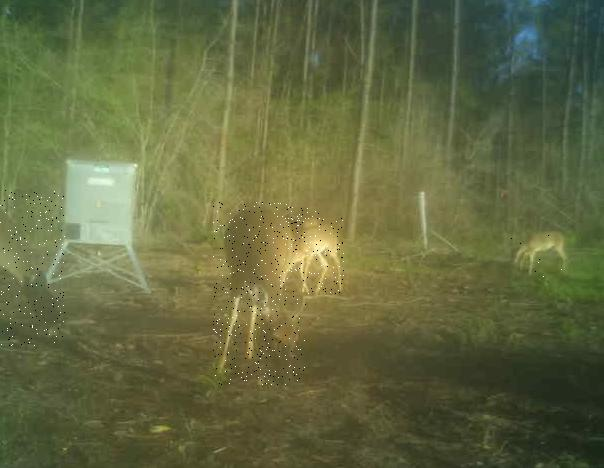Deer: (214, 202, 308, 385), (0, 188, 65, 346), (284, 219, 344, 295), (509, 232, 569, 280), (286, 209, 321, 240)
